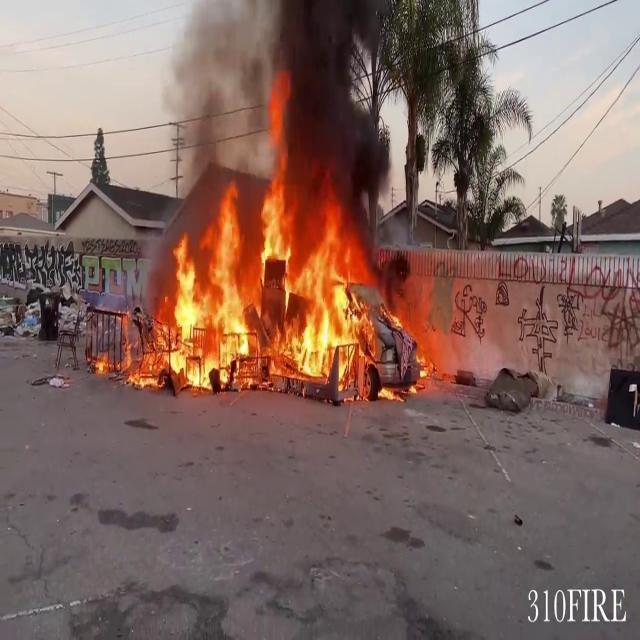Fire: (130, 177, 450, 398)
Smoke: (162, 0, 395, 213)
